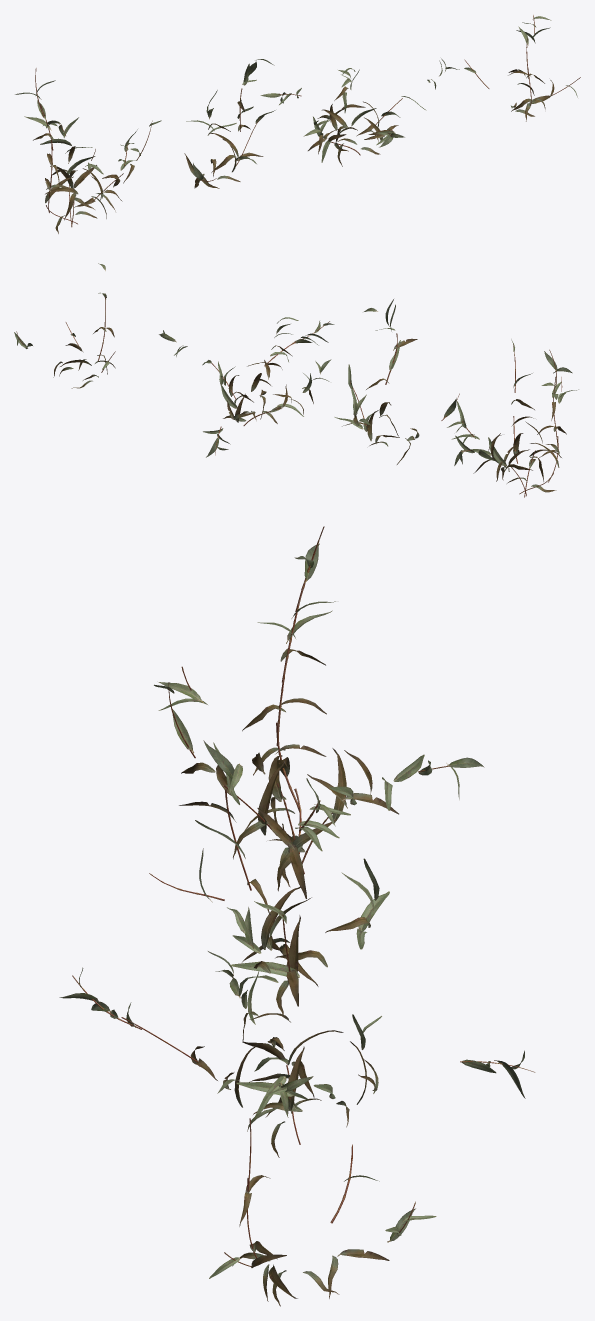
File: shrub_02_lod.gltf
The picture shows the model from 3 angles, top to bottom: view 1: azimuth 30°, elevation 25°; view 2: azimuth 150°, elevation 25°; view 3: azimuth 270°, elevation 25°; orthographic projection. The views are drawn at different scales.
Visible parts, largest first — view 1: shrub_02_a, shrub_02_c, shrub_02_b, shrub_02_d; view 2: shrub_02_a, shrub_02_c, shrub_02_b, shrub_02_d; view 3: shrub_02_a, shrub_02_c, shrub_02_b, shrub_02_d.
Boxes of the visible parts, x1,y1,x2,y2 form: shrub_02_a: [15, 68, 161, 233]; shrub_02_c: [260, 58, 459, 166]; shrub_02_b: [184, 59, 275, 188]; shrub_02_d: [464, 15, 580, 121]; shrub_02_a: [447, 339, 578, 497]; shrub_02_c: [159, 317, 334, 457]; shrub_02_b: [334, 299, 459, 464]; shrub_02_d: [14, 263, 115, 388]; shrub_02_a: [154, 526, 484, 898]; shrub_02_c: [59, 907, 535, 1157]; shrub_02_b: [149, 740, 389, 1014]; shrub_02_d: [209, 1079, 436, 1306].
Size of the model in its own units: 6.07 by 1.71 by 2.31.
1 material, 1 textured.
